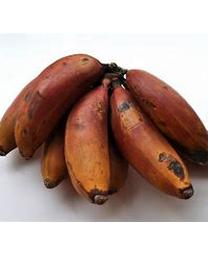banana: (0, 53, 206, 207)
